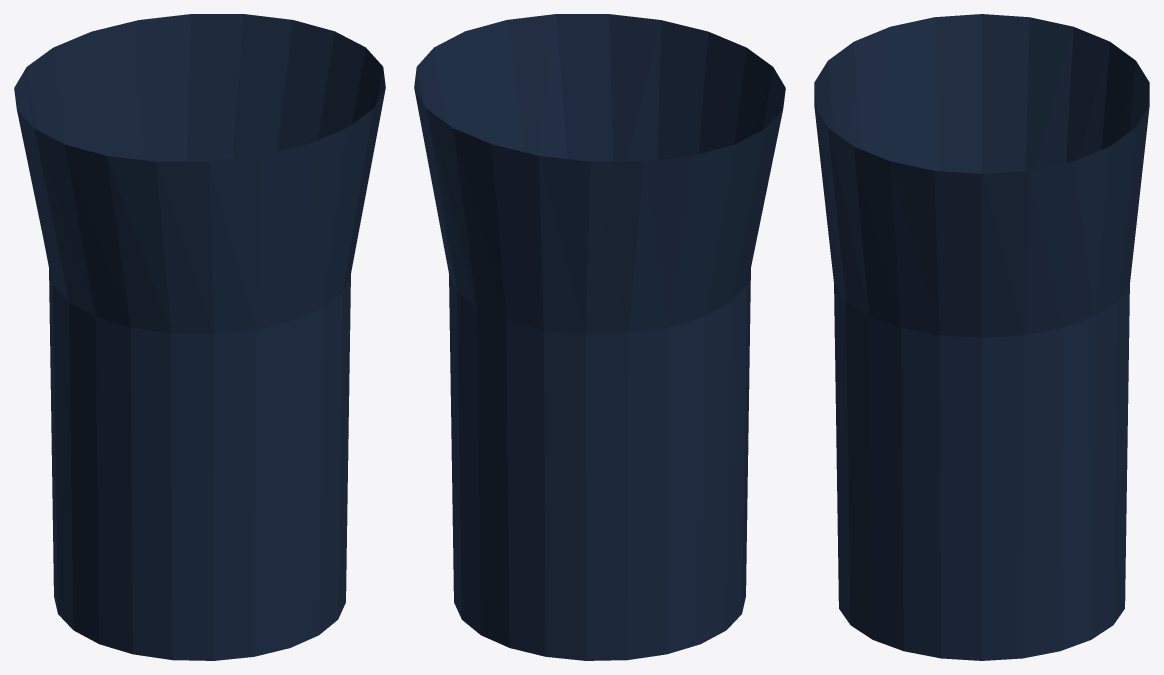
The model's file is JeansUpper_L.obj.
3 renders of one model, left to right at view 1: azimuth 30°, elevation 25°; view 2: azimuth 150°, elevation 25°; view 3: azimuth 270°, elevation 25°, orthographic.
Visible parts, largest first — view 1: JeansUpper_L; view 2: JeansUpper_L; view 3: JeansUpper_L.
Boxes of the visible parts, <box> form: JeansUpper_L: <box>14,14,385,660</box>; JeansUpper_L: <box>414,14,785,660</box>; JeansUpper_L: <box>814,14,1149,660</box>.
Bounding box in the file's own units: 0.38 × 0.56 × 0.3365.
